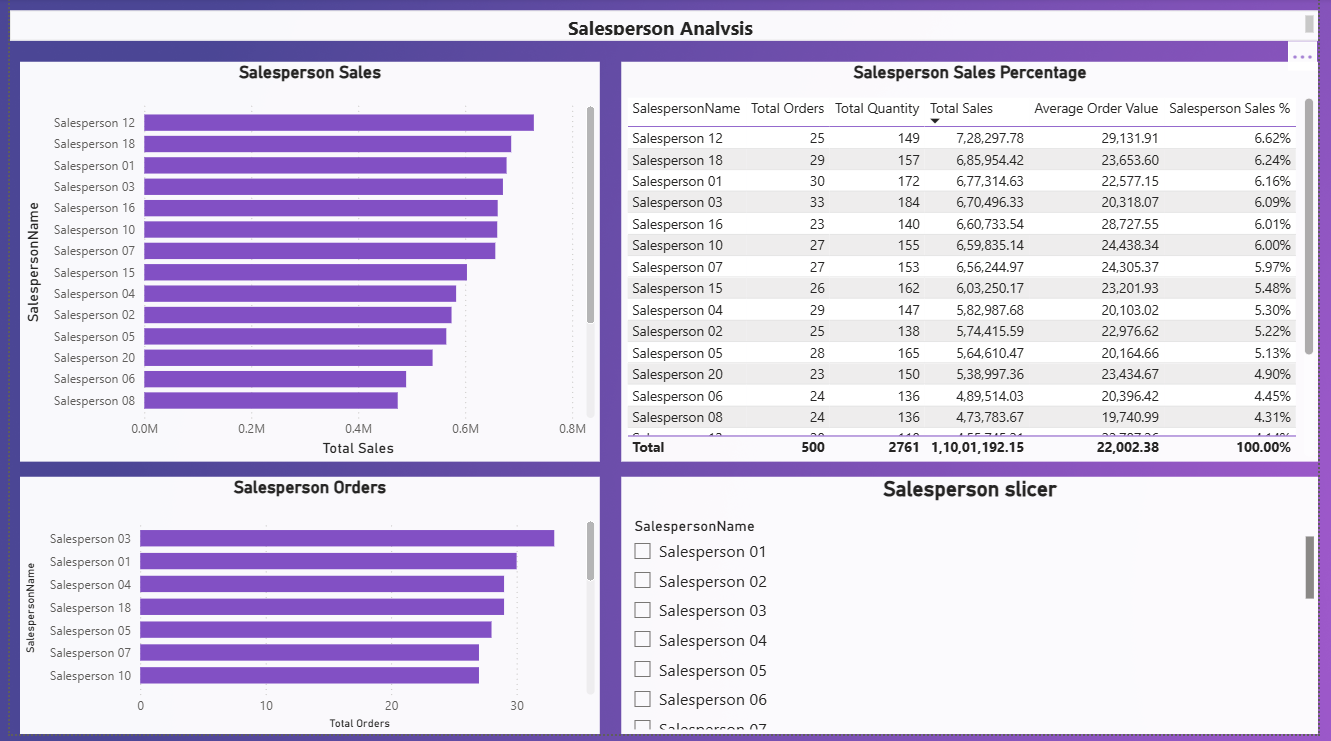

What the dashboard file says about the page in this screenshot:
{"tool":"powerbi","page":{"name":"SALESPERSON ANALYSIS","canvas":[1280,720],"ordinal":3},"visuals":[{"type":"barChart","title":"Salesperson Sales","fields":{"Category":["salespersons.SalespersonName"],"Y":["Orders.Total Sales"]},"box":[9.8,62.4,567.4,391.3],"z":0},{"type":"barChart","title":"Salesperson Orders","fields":{"Category":["salespersons.SalespersonName"],"Y":["Orders.Total Orders"]},"box":[9.8,468.3,567.4,251.9],"z":1000},{"type":"tableEx","title":"Salesperson Sales Percentage","fields":{"Values":["salespersons.SalespersonName","Orders.Total Orders","Orders.Total Quantity","Orders.Total Sales","Orders.Average Order Value","salespersons.Salesperson Sales %"]},"box":[598,62.4,682.3,391.3],"z":2000},{"type":"slicer","title":"Salesperson slicer","fields":{"Values":["salespersons.SalespersonName"]},"box":[598,468.3,682.3,251.9],"z":3000},{"type":"textbox","box":[0,12.2,1280.3,29.3],"z":3001}]}

Visuals, with their boxes in screenshot pixels (x1, y1, x2, y2), scaled from the page's 1280x720 canvas onto the 1331x741 screenshot:
"Salesperson Sales" barChart: l=10, t=64, r=600, b=467
"Salesperson Orders" barChart: l=10, t=482, r=600, b=740
"Salesperson Sales Percentage" tableEx: l=622, t=64, r=1330, b=467
"Salesperson slicer" slicer: l=622, t=482, r=1330, b=740
textbox: l=0, t=13, r=1330, b=43
